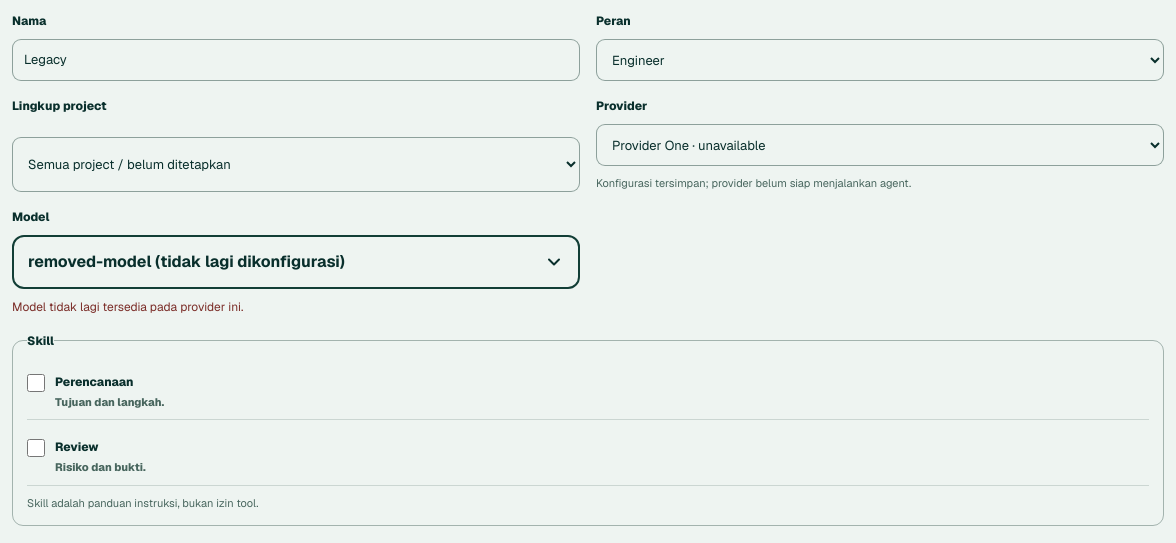
retains a legacy mismatched model until the owner chooses a current one
This screenshot has width=1176, height=543.
Expected: the text "Model tidak lagi tersedia pada provider ini." is shown, [12,298,243,314]
Step 1. Select "model-one" in the dropdown labelled "Model" → (296, 262), box [12,234,580,288]
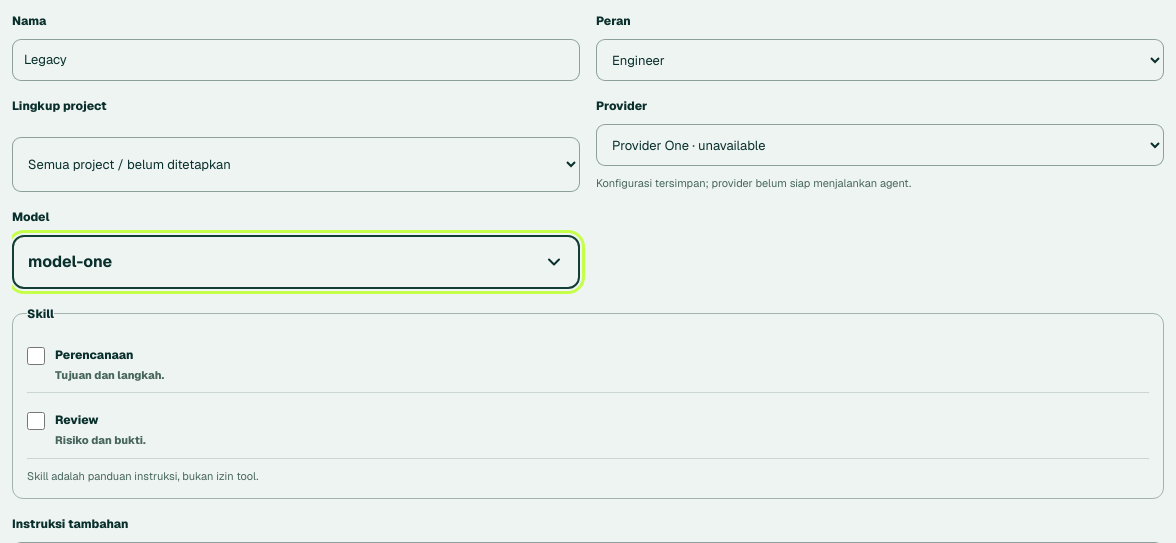
Expected: the text "Model tidak lagi tersedia" is gone
